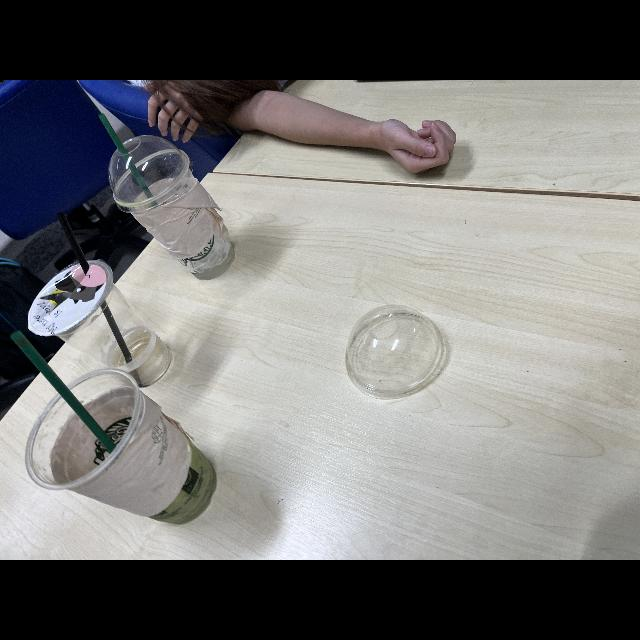plastic_cup: (18, 368, 230, 514), (21, 264, 176, 382), (107, 158, 241, 276)
plastic_cup_lid: (338, 307, 447, 399), (102, 132, 194, 214)
straw: (8, 324, 118, 450), (56, 206, 136, 366), (96, 116, 156, 196)
